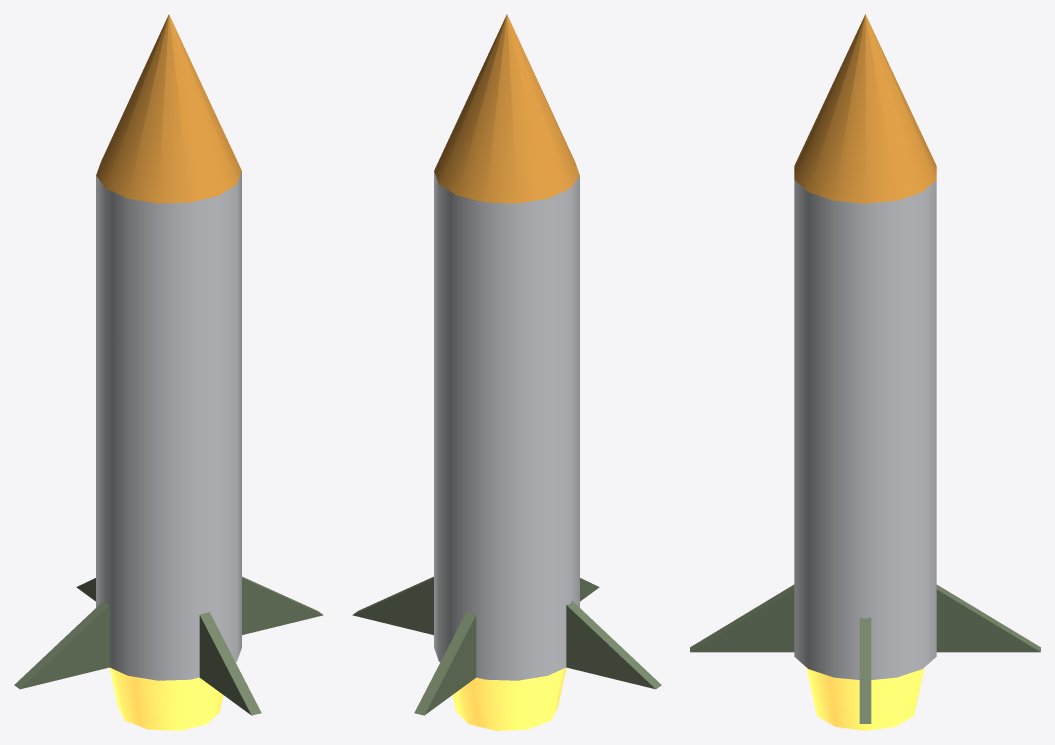
The model's file is rocket.gltf.
3 renders of one model, left to right at view 1: azimuth 30°, elevation 25°; view 2: azimuth 150°, elevation 25°; view 3: azimuth 270°, elevation 25°, orthographic.
Parts seen in each view (by area): view 1: rocket; view 2: rocket; view 3: rocket.
Part boxes in pixels (bbox=[...]): rocket: bbox=[14, 14, 323, 730]; rocket: bbox=[352, 14, 661, 730]; rocket: bbox=[690, 14, 1040, 730].
Bounding box in the file's own units: 0.24 × 0.525 × 0.24.
